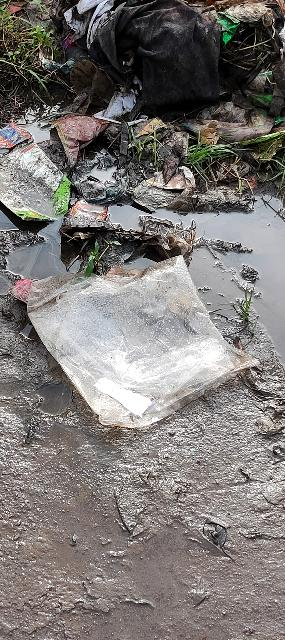polythene: (26, 271, 258, 434)
